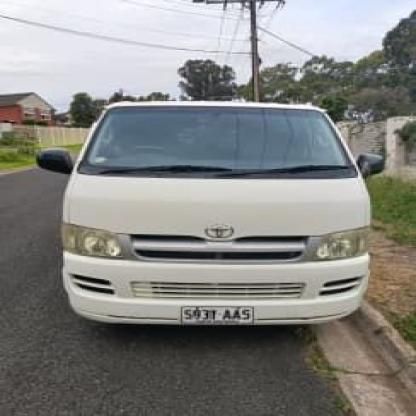number plate: (178, 301, 263, 328)
van front: (33, 90, 389, 341)
